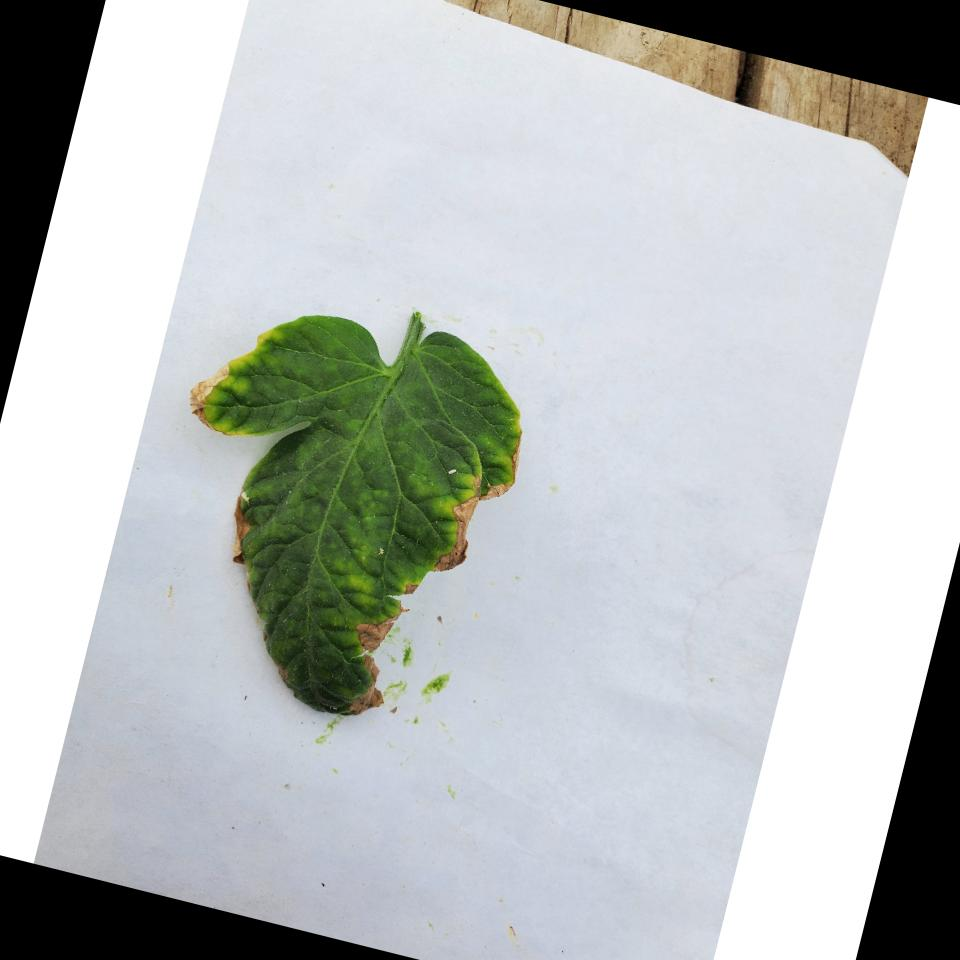tomato_bacterial_blight: (166, 272, 552, 747)
